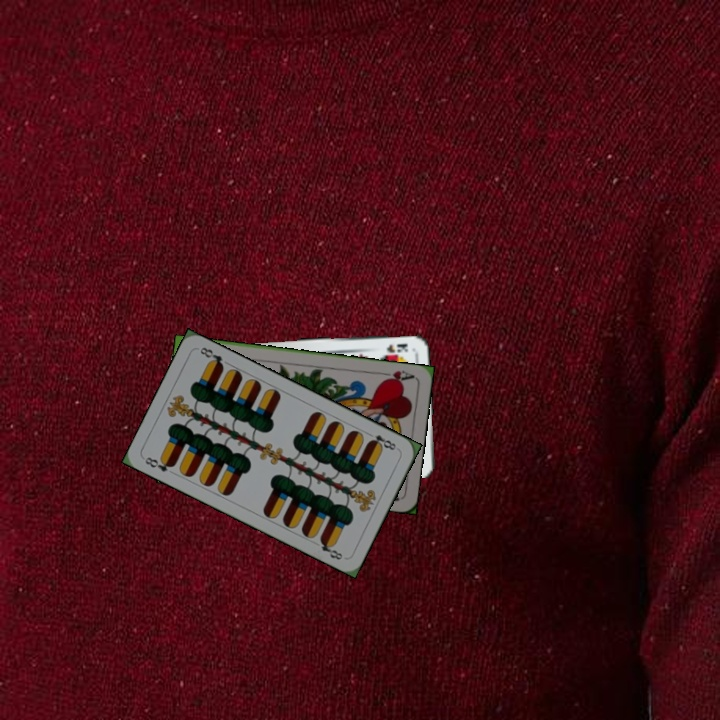E8: (363, 428, 401, 453), (141, 453, 177, 474)
HA: (376, 366, 416, 386)
SK: (383, 339, 410, 355)
